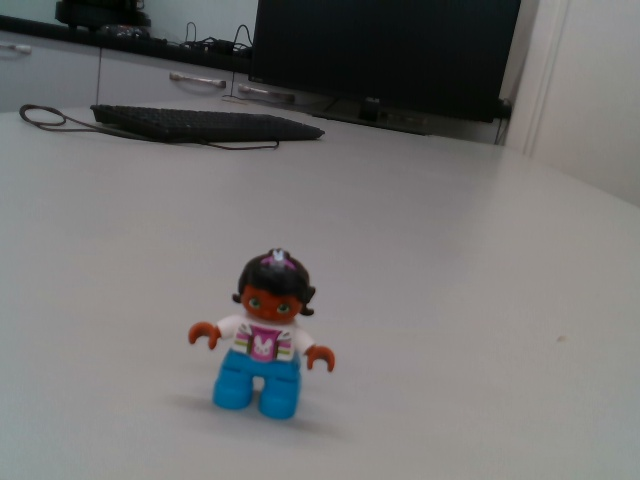people: (185, 247, 341, 421)
